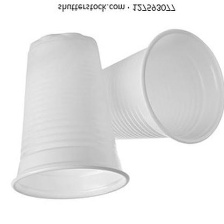glass: (8, 26, 134, 203), (73, 28, 223, 153)
